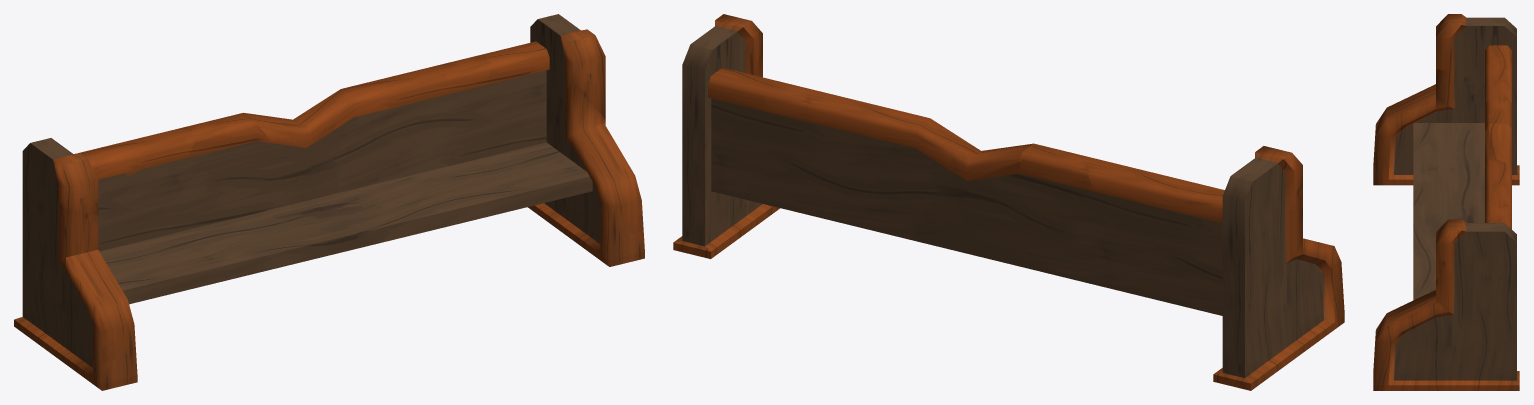
Rendered from BD_Bench_Shattered.fbx.
3 renders of one model, left to right at view 1: azimuth 30°, elevation 25°; view 2: azimuth 150°, elevation 25°; view 3: azimuth 270°, elevation 25°, orthographic. The views are drawn at different scales.
Parts seen in each view (by area): view 1: Bench_Shattered3, Bench_Shattered6, Bench_Shattered2, Bench_Shattered1, Bench_Shattered5, Bench_Shattered7, Bench_Shattered8, Bench_Shattered4, Bench_Shattered9; view 2: Bench_Shattered3, Bench_Shattered6, Bench_Shattered1, Bench_Shattered7, Bench_Shattered2, Bench_Shattered4, Bench_Shattered9, Bench_Shattered8, Bench_Shattered5; view 3: Bench_Shattered4, Bench_Shattered5, Bench_Shattered6, Bench_Shattered1, Bench_Shattered8, Bench_Shattered3, Bench_Shattered9, Bench_Shattered7, Bench_Shattered2.
Part boxes in pixels (left/top/right/bottom): Bench_Shattered3: left=244, top=54, right=493, bottom=241; Bench_Shattered6: left=149, top=113, right=385, bottom=288; Bench_Shattered2: left=468, top=41, right=592, bottom=215; Bench_Shattered1: left=74, top=128, right=199, bottom=304; Bench_Shattered5: left=528, top=80, right=644, bottom=266; Bench_Shattered7: left=14, top=193, right=98, bottom=363; Bench_Shattered8: left=64, top=250, right=137, bottom=390; Bench_Shattered4: left=530, top=14, right=605, bottom=141; Bench_Shattered9: left=22, top=138, right=98, bottom=215; Bench_Shattered3: left=764, top=82, right=1033, bottom=249; Bench_Shattered6: left=949, top=143, right=1142, bottom=296; Bench_Shattered1: left=1088, top=159, right=1224, bottom=315; Bench_Shattered7: left=1213, top=187, right=1304, bottom=390; Bench_Shattered2: left=708, top=67, right=793, bottom=210; Bench_Shattered4: left=673, top=14, right=762, bottom=252; Bench_Shattered9: left=1222, top=146, right=1302, bottom=251; Bench_Shattered8: left=1297, top=238, right=1344, bottom=350; Bench_Shattered5: left=683, top=50, right=779, bottom=258; Bench_Shattered4: left=1436, top=219, right=1519, bottom=390; Bench_Shattered5: left=1373, top=290, right=1519, bottom=390; Bench_Shattered6: left=1413, top=99, right=1511, bottom=231; Bench_Shattered1: left=1413, top=45, right=1511, bottom=160; Bench_Shattered8: left=1373, top=84, right=1435, bottom=185; Bench_Shattered3: left=1413, top=124, right=1511, bottom=282; Bench_Shattered9: left=1436, top=14, right=1516, bottom=80; Bench_Shattered7: left=1436, top=68, right=1519, bottom=185; Bench_Shattered2: left=1413, top=219, right=1511, bottom=300.
Bounding box in the file's own units: 6.42 × 2.16 × 1.8.
